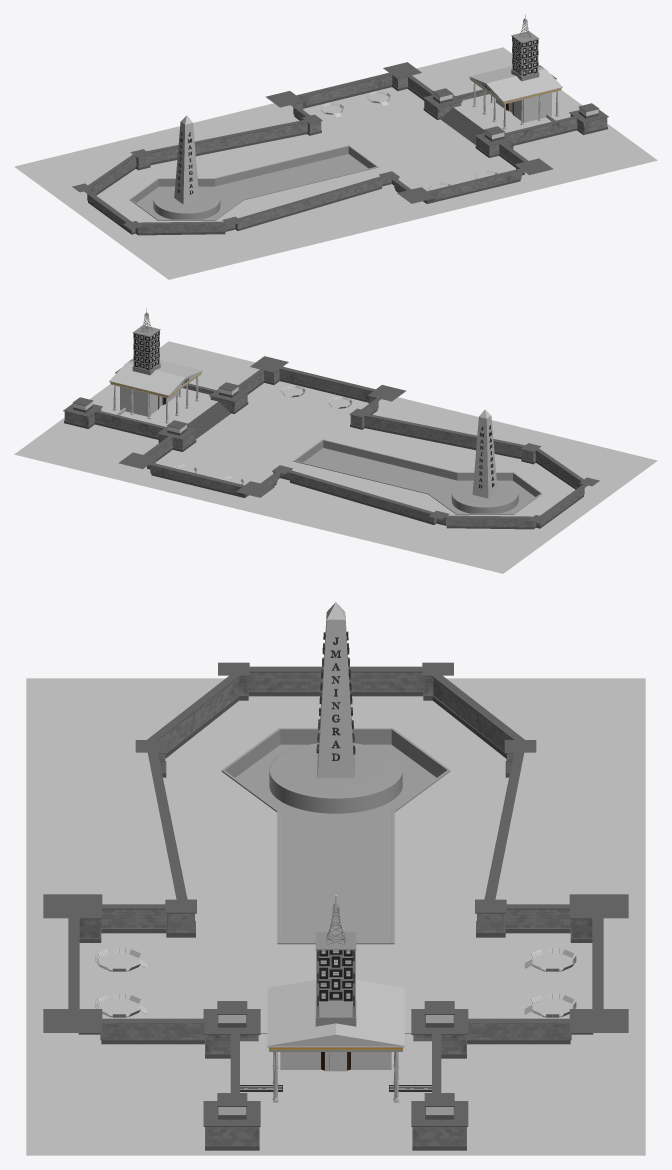
The model's file is jmaningrad.fbx.
3 views of the same model, one above another, from view 1: azimuth 30°, elevation 25°; view 2: azimuth 150°, elevation 25°; view 3: azimuth 270°, elevation 25° (orthographic). The views are drawn at different scales.
Visible parts, largest first — view 1: Floor, border wall, square floor, stair pillars, palace roof, palace floor, island, Monument, water barricade, palace walls, stair pillars.001, stairs; view 2: Floor, border wall, square floor, stair pillars, palace roof, palace floor, island, Monument, water barricade, palace walls, stair pillars.001, stairs; view 3: Floor, border wall, square floor, palace floor, stair pillars, palace roof, island, Monument, stair pillars.001, water barricade, palace walls, parting.001 (+4 smaller).
Part boxes in pixels (x1,y1,x2,y2): Floor: (14,47,657,279); border wall: (72,62,553,235); square floor: (131,147,375,219); stair pillars: (423,74,608,157); palace roof: (469,66,562,104); palace floor: (454,94,572,132); island: (153,186,220,219); Monument: (174,115,199,204); water barricade: (129,145,378,220); palace walls: (496,92,551,122); stair pillars.001: (432,65,599,141); stairs: (440,107,484,145); Floor: (14,341,657,573); border wall: (118,356,599,529); square floor: (296,441,540,513); stair pillars: (63,368,248,451); palace roof: (109,360,202,398); palace floor: (99,388,217,426); island: (451,480,518,513); Monument: (472,409,497,498); water barricade: (293,439,542,514); palace walls: (120,386,175,416); stair pillars.001: (72,359,239,435); stairs: (187,401,231,439); Floor: (26,678,645,1155); border wall: (43,662,628,1044); square floor: (225,730,446,941); palace floor: (240,1034,431,1117); stair pillars: (203,1009,468,1150); palace roof: (267,980,404,1051); island: (269,743,402,813); Monument: (317,602,354,777); stair pillars.001: (217,1001,454,1119); water barricade: (221,728,450,944); palace walls: (280,1052,391,1070); parting.001: (315,1001,356,1026).
Bounding box in the file's own units: 36500 × 7866 × 20000.
